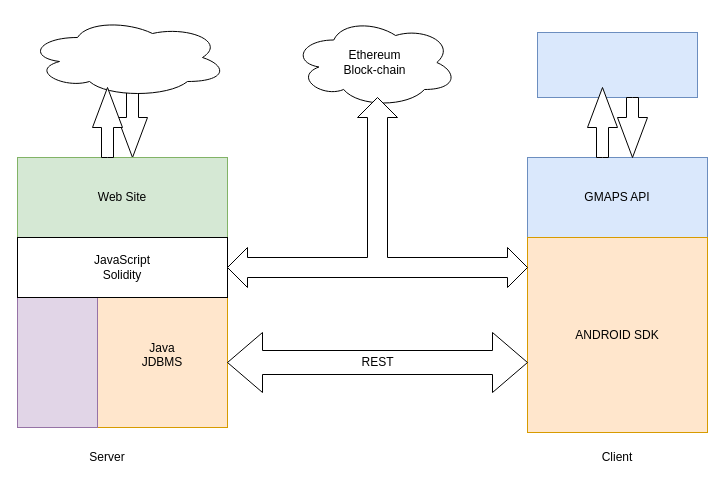
Image size: 725x485. Some labels were removed from this diagram. The shapes that lost their labels are listed below. From the top down, each one's centre as x and y in pixels, then its label:
the point at 127,57: REST of the world
the point at 617,65: APIs: GMAPS
the point at 57,362: MySQL database
